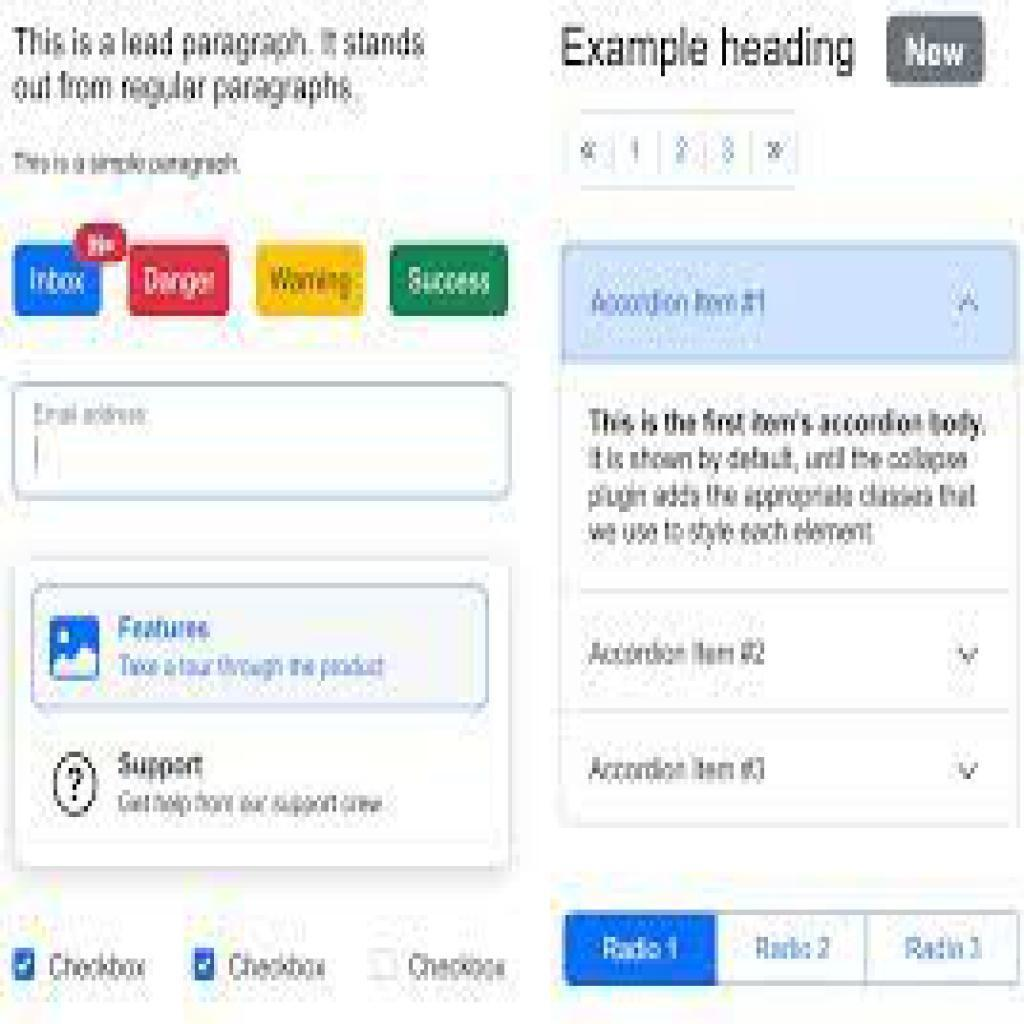button: (32, 585, 488, 710), (717, 910, 868, 987), (565, 911, 717, 986), (867, 911, 1018, 984), (390, 244, 512, 315), (257, 240, 365, 315), (132, 242, 234, 319), (885, 14, 987, 88), (15, 241, 102, 317)
checkbox: (371, 948, 399, 981), (193, 947, 218, 983), (14, 947, 38, 984)
dropdown: (562, 242, 1018, 363), (561, 590, 1015, 711), (560, 713, 1019, 828)
input: (12, 382, 513, 500)
label: (228, 945, 331, 986), (50, 948, 149, 987), (408, 951, 512, 984)
